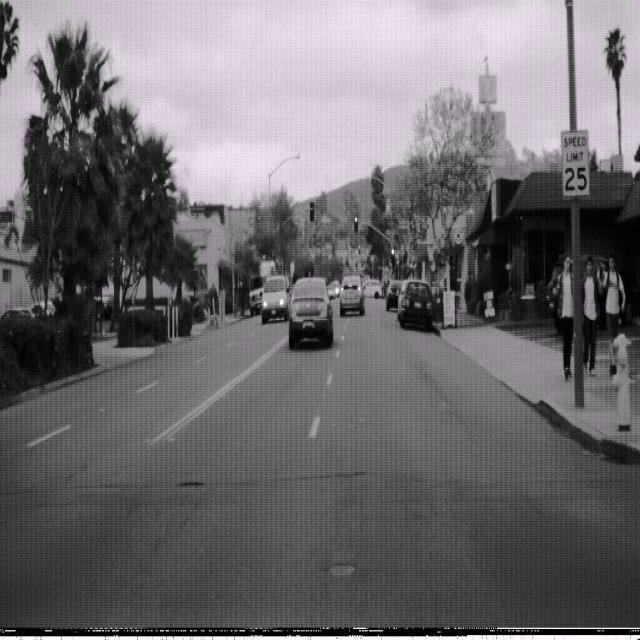speedLimit25: (560, 128, 590, 198)
